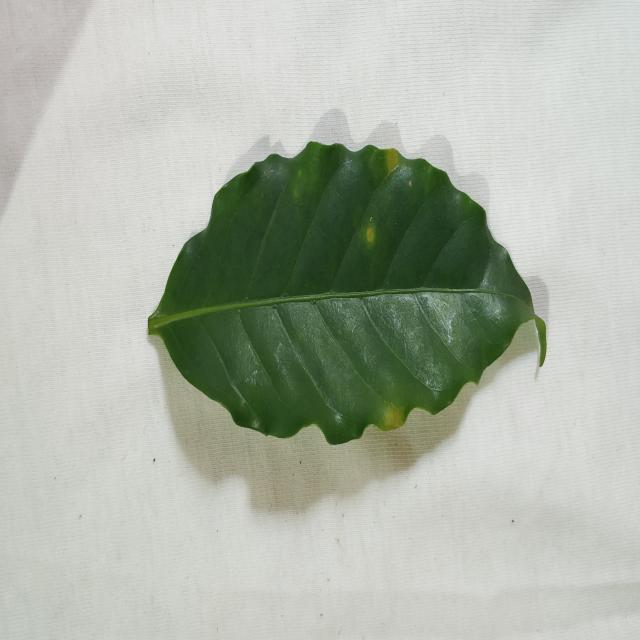Enfermedad-Roya: (146, 142, 546, 448)
